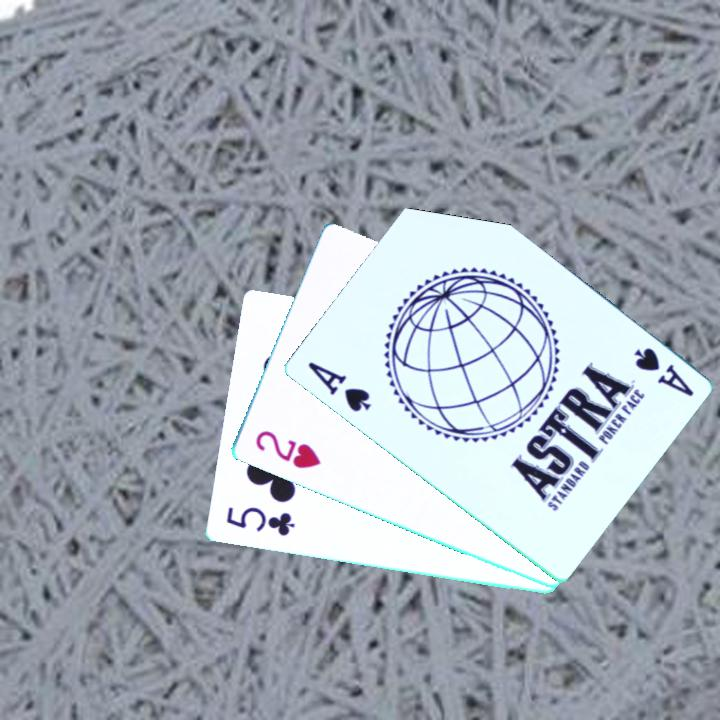2h: (251, 427, 324, 472)
5c: (222, 503, 297, 540)
As: (303, 357, 373, 415), (630, 343, 697, 400)
